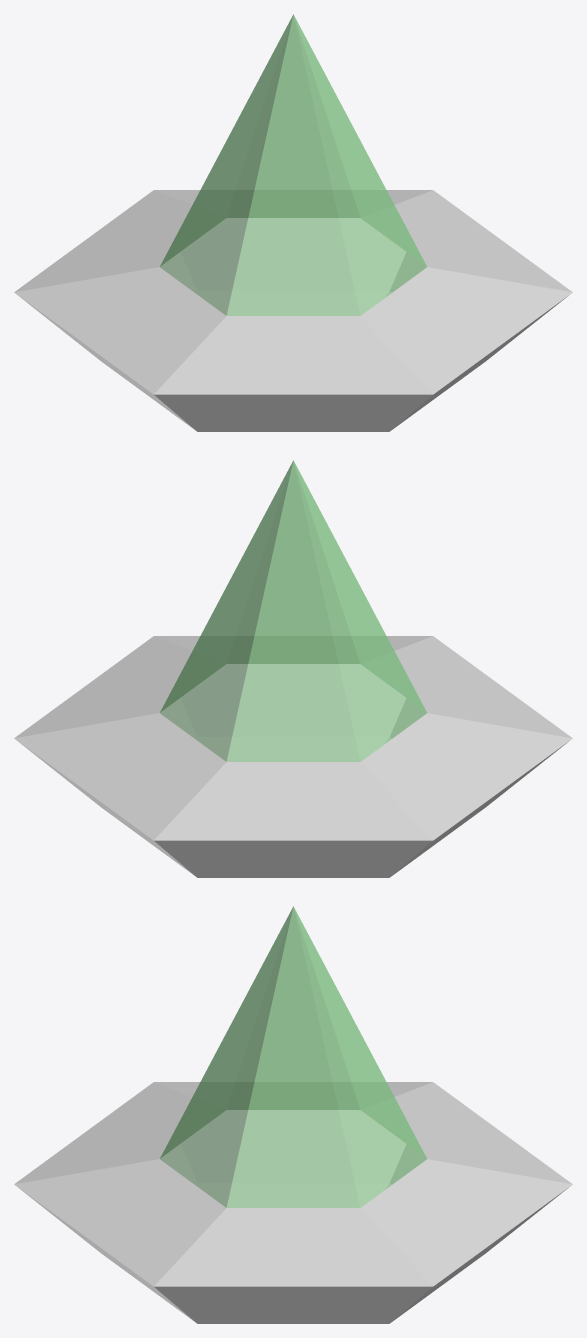
The model's file is Player_cloneJuice.fbx.
3 views of the same model, one above another, from view 1: azimuth 30°, elevation 25°; view 2: azimuth 150°, elevation 25°; view 3: azimuth 270°, elevation 25° (orthographic).
Parts seen in each view (by area): view 1: Cone; view 2: Cone; view 3: Cone.
Boxes of the visible parts, box(x1,y1,x2,y2) form: Cone: box(14, 14, 572, 431); Cone: box(14, 460, 572, 877); Cone: box(14, 906, 572, 1323).
Size of the model in its own units: 155 by 141 by 180.
